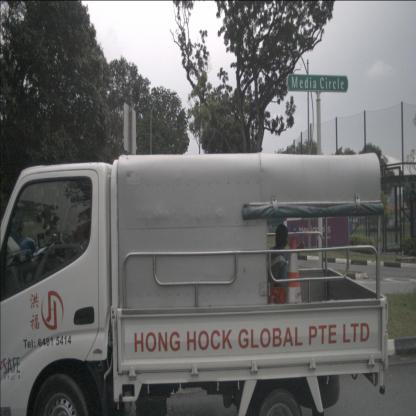vehicle-truck: (0, 154, 388, 416)
